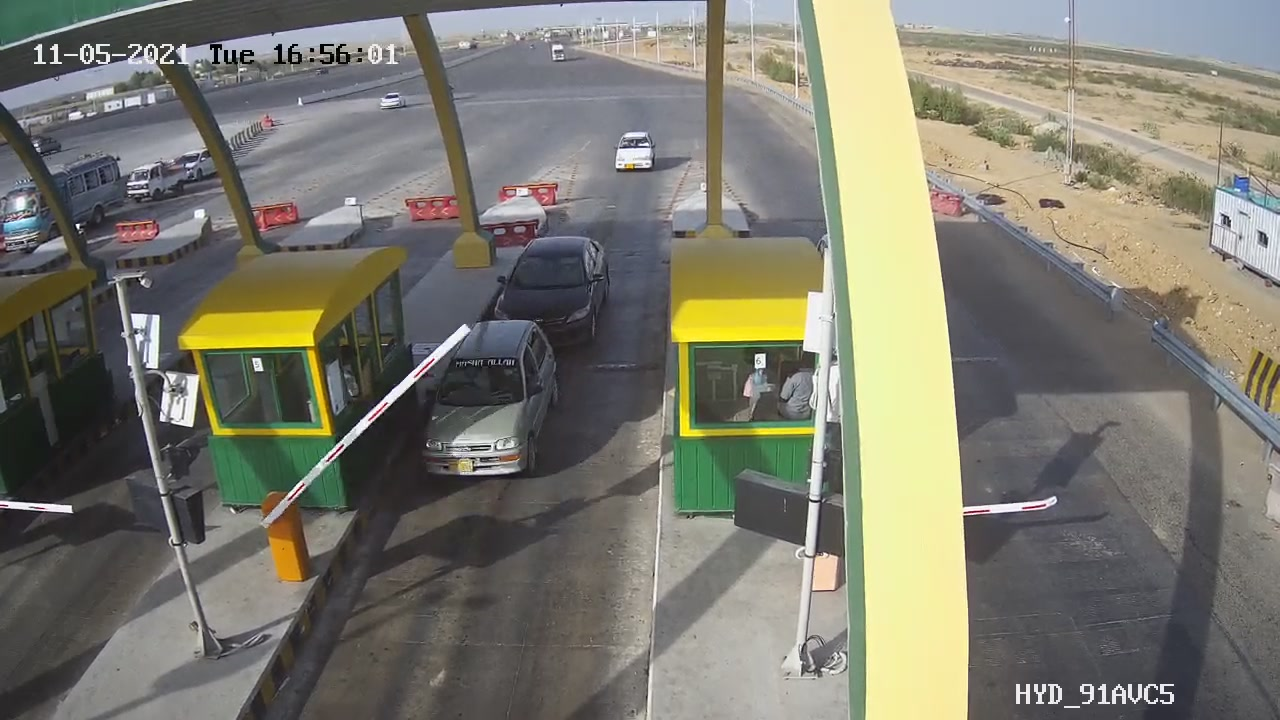F1: (406, 307, 578, 495), (480, 223, 628, 363)
